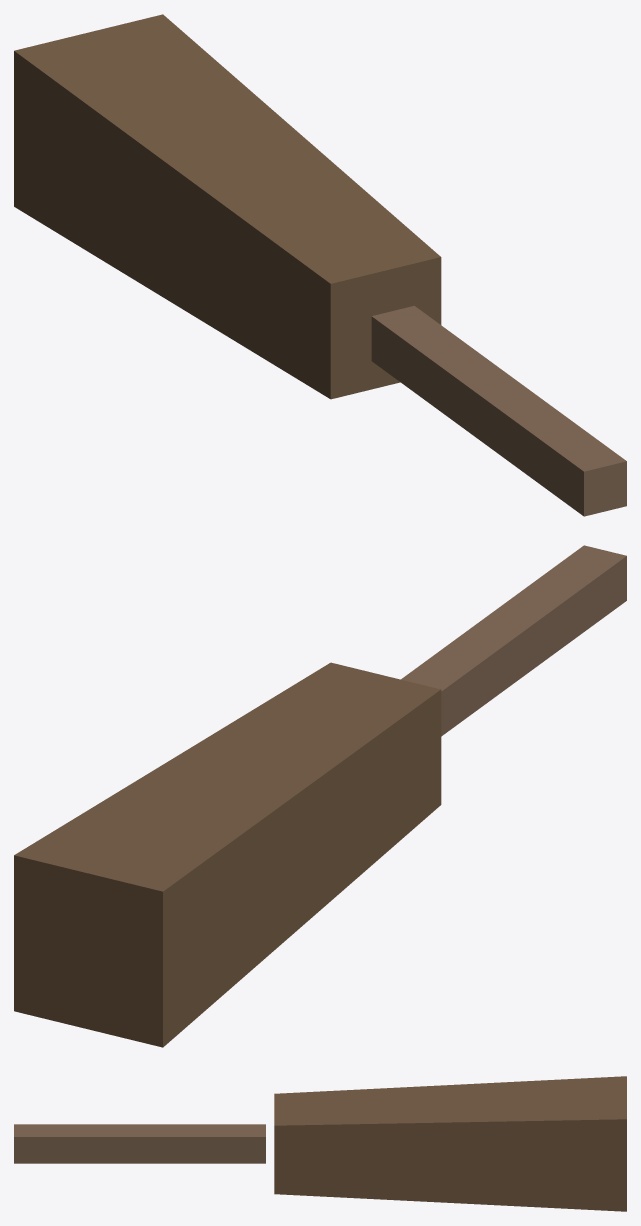
The model's file is club_t1.glb.
The picture shows the model from 3 angles, top to bottom: view 1: azimuth 30°, elevation 25°; view 2: azimuth 150°, elevation 25°; view 3: azimuth 270°, elevation 25°; orthographic projection. The views are drawn at different scales.
Visible parts, largest first — view 1: head; view 2: head; view 3: head.
Boxes of the visible parts, x1,y1,x2,y2 form: head: [14, 14, 626, 516]; head: [14, 545, 626, 1047]; head: [14, 1076, 626, 1211].
Size of the model in its own units: 0.1215 by 0.1215 by 0.73.
